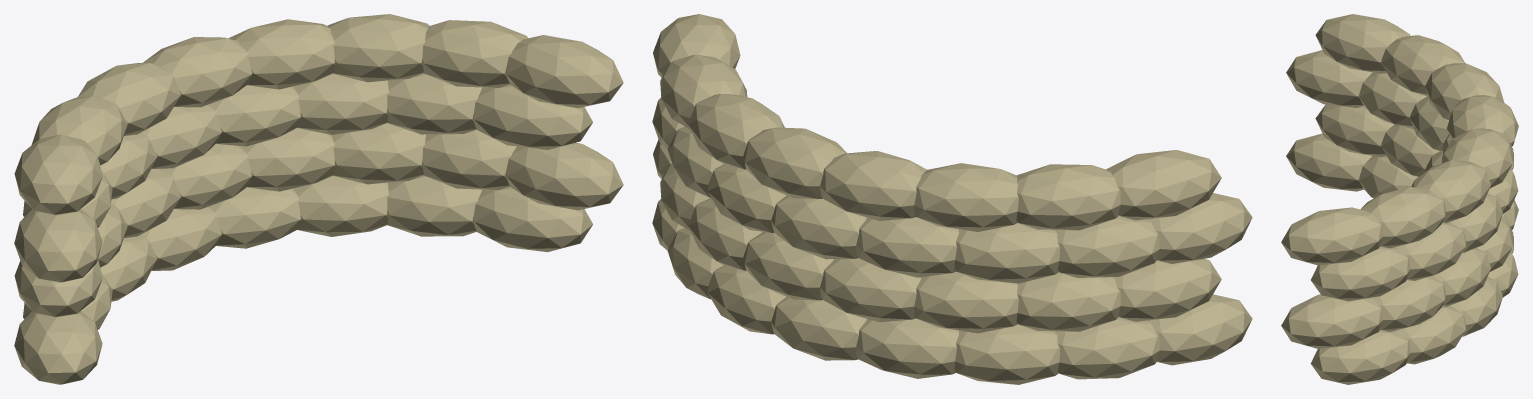
File: sandbags.glb
The picture shows the model from 3 angles, left to right: view 1: azimuth 30°, elevation 25°; view 2: azimuth 150°, elevation 25°; view 3: azimuth 270°, elevation 25°; orthographic projection. The views are drawn at different scales.
Visible parts, largest first — view 1: sandbags; view 2: sandbags; view 3: sandbags.
Boxes of the visible parts, bbox=[...] form: sandbags: bbox=[14, 14, 623, 384]; sandbags: bbox=[652, 14, 1252, 384]; sandbags: bbox=[1281, 14, 1518, 384].
Size of the model in its own units: 3.37 by 1.16 by 1.45.
